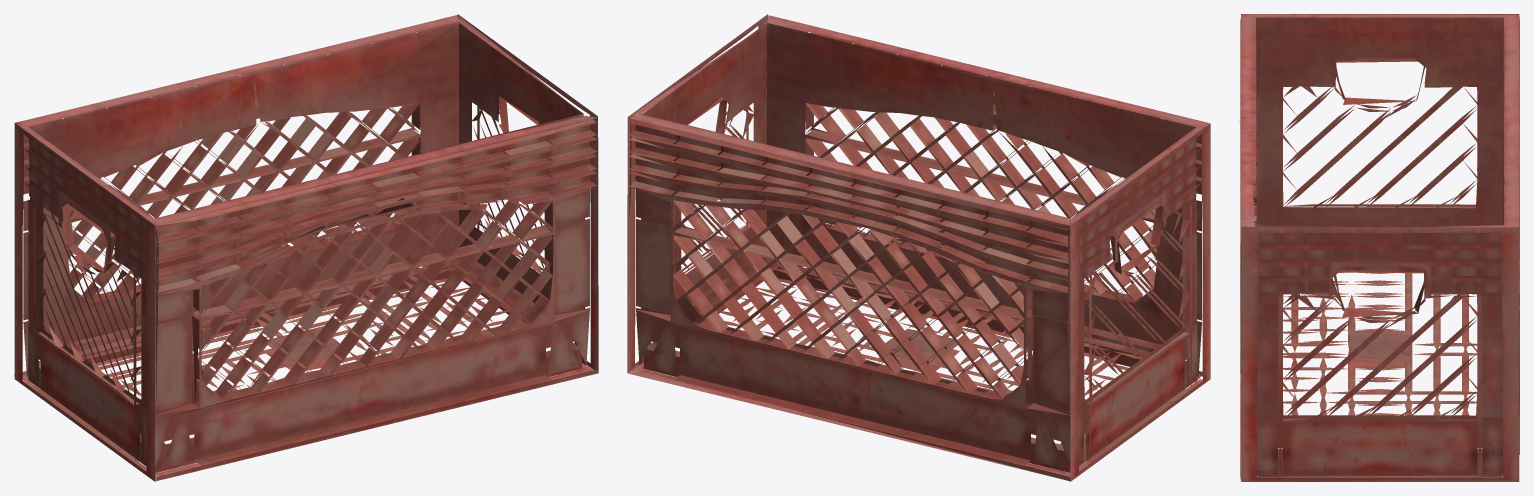
Rendered from ph_crate_red.glb.
3 renders of one model, left to right at view 1: azimuth 30°, elevation 25°; view 2: azimuth 150°, elevation 25°; view 3: azimuth 270°, elevation 25°, orthographic.
Visible parts, largest first — view 1: plastic_crate_03; view 2: plastic_crate_03; view 3: plastic_crate_03.
Part boxes in pixels (x1=…): plastic_crate_03: x1=14, y1=14, x2=598, y2=481; plastic_crate_03: x1=627, y1=14, x2=1210, y2=481; plastic_crate_03: x1=1239, y1=14, x2=1519, y2=481.
Bounding box in the file's own units: 0.4811 × 0.2666 × 0.2663.
1 material, 1 textured.
